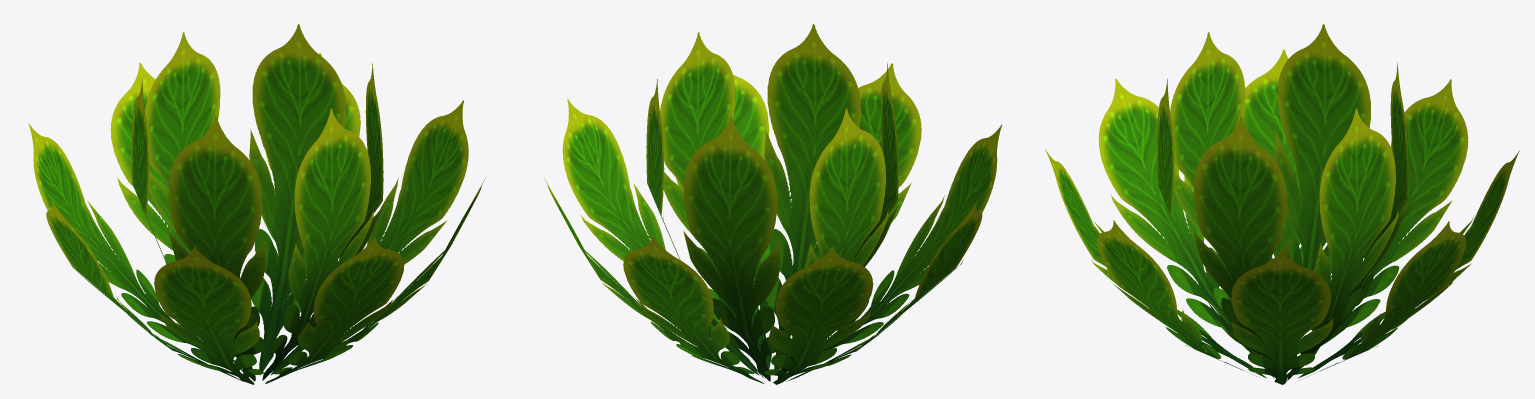
File: Green_Bush_02b.FBX
3 views of the same model, side by side, from view 1: azimuth 30°, elevation 25°; view 2: azimuth 150°, elevation 25°; view 3: azimuth 270°, elevation 25° (orthographic).
Parts seen in each view (by area): view 1: Green_Bush_02b; view 2: Green_Bush_02b; view 3: Green_Bush_02b.
Boxes of the visible parts, <box> form: Green_Bush_02b: <box>28,24,485,384</box>; Green_Bush_02b: <box>544,24,1001,384</box>; Green_Bush_02b: <box>1045,24,1519,384</box>.
Size of the model in its own units: 133 by 95.73 by 133.
